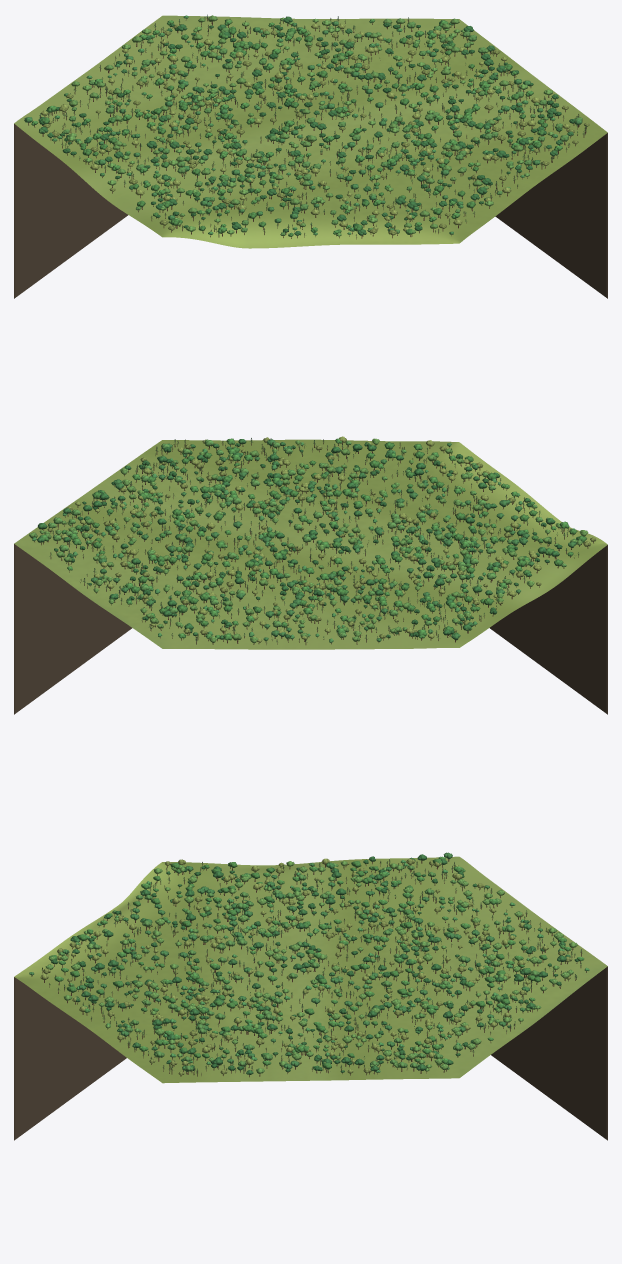
The picture shows the model from 3 angles, top to bottom: view 1: azimuth 30°, elevation 25°; view 2: azimuth 150°, elevation 25°; view 3: azimuth 270°, elevation 25°; orthographic projection.
Visible parts, largest first — view 1: terrain, broadleaf_canopy, hex_side_cut, trunks, conifer_canopy; view 2: terrain, broadleaf_canopy, hex_side_cut, trunks, conifer_canopy; view 3: terrain, broadleaf_canopy, hex_side_cut, trunks, conifer_canopy.
Boxes of the visible parts, x1,y1,x2,y2 form: terrain: (14, 15, 607, 248); broadleaf_canopy: (24, 15, 589, 236); hex_side_cut: (14, 124, 607, 298); trunks: (28, 17, 586, 239); conifer_canopy: (39, 14, 586, 235); terrain: (14, 439, 607, 649); broadleaf_canopy: (29, 436, 595, 643); hex_side_cut: (14, 544, 607, 714); trunks: (34, 439, 593, 644); conifer_canopy: (49, 438, 583, 642); terrain: (14, 856, 607, 1083); broadleaf_canopy: (29, 852, 589, 1075); hex_side_cut: (14, 966, 607, 1140); trunks: (31, 859, 586, 1077); conifer_canopy: (42, 859, 582, 1073).
Size of the model in its own units: 4330 by 1710 by 5000.
6 materials, 1 textured.
